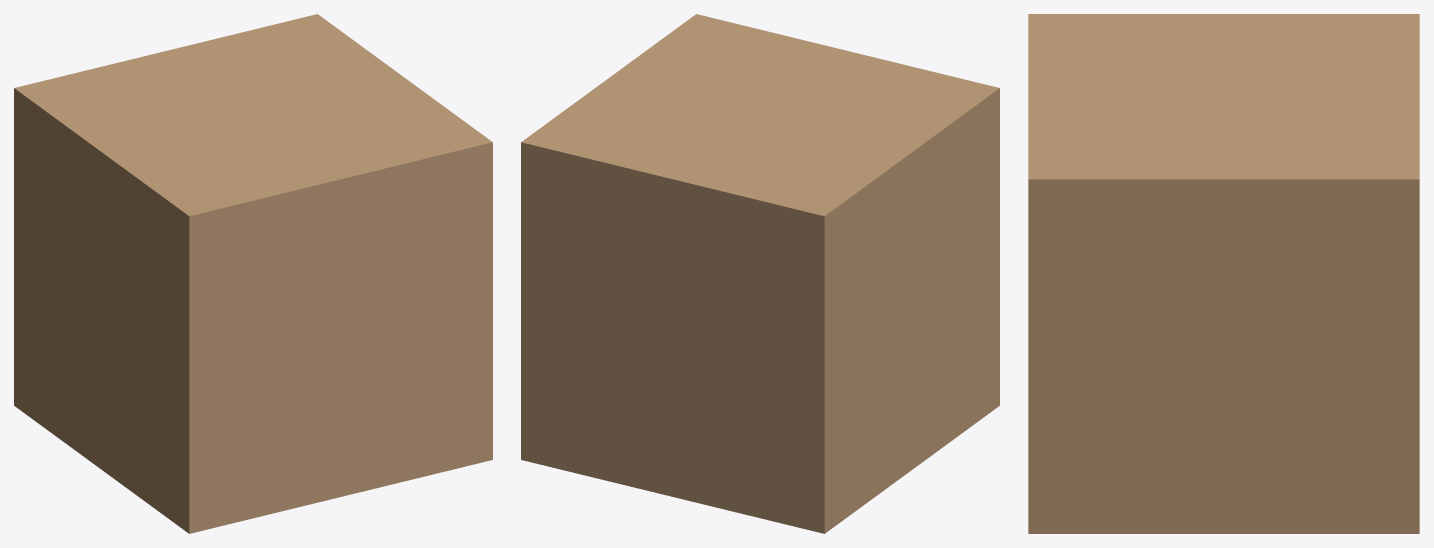
The model's file is Prop_DS_Water_Bucket_V2.glb.
3 renders of one model, left to right at view 1: azimuth 30°, elevation 25°; view 2: azimuth 150°, elevation 25°; view 3: azimuth 270°, elevation 25°, orthographic. The views are drawn at different scales.
Parts seen in each view (by area): view 1: Cube; view 2: Cube; view 3: Cube.
Part boxes in pixels (x1,y1,x2,y2): Cube: (14,14,492,533); Cube: (521,14,999,533); Cube: (1028,14,1419,533).
Size of the model in its own units: 0.3 by 0.3 by 0.3.
